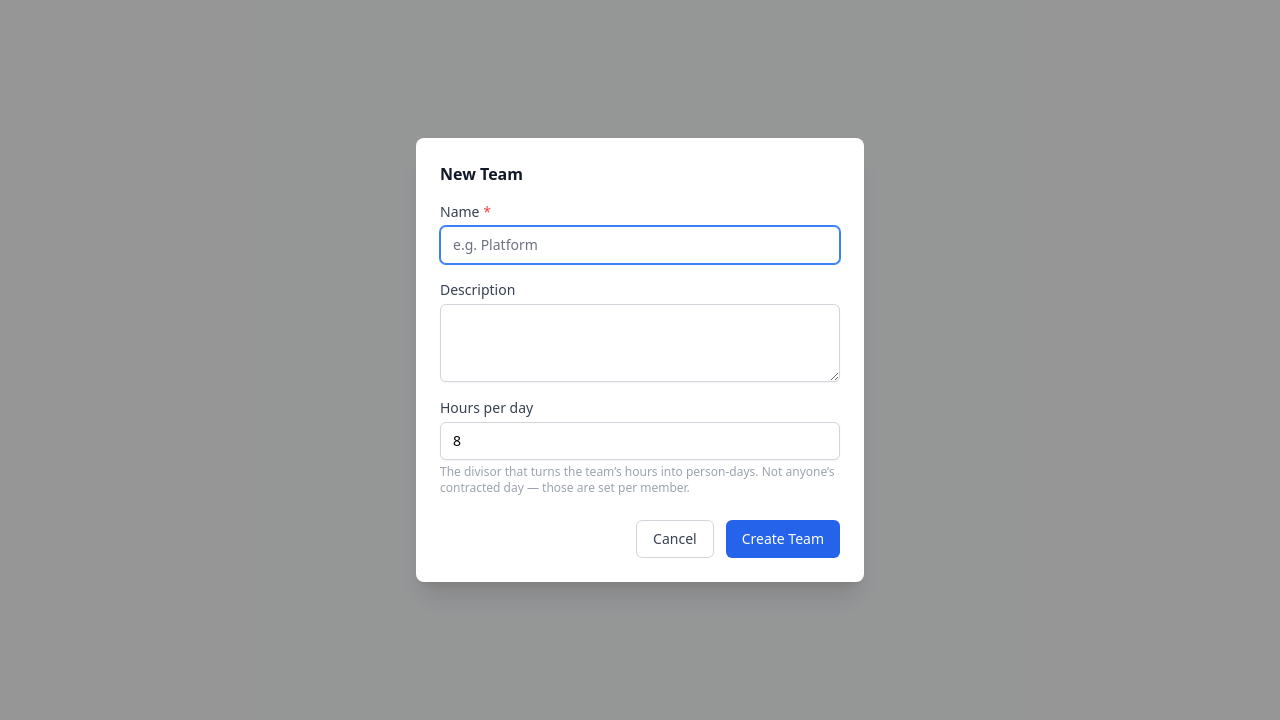
it: CreateTeamModal › requires a name
Click the button "Create Team" at (783, 539), box [726,520,840,558]
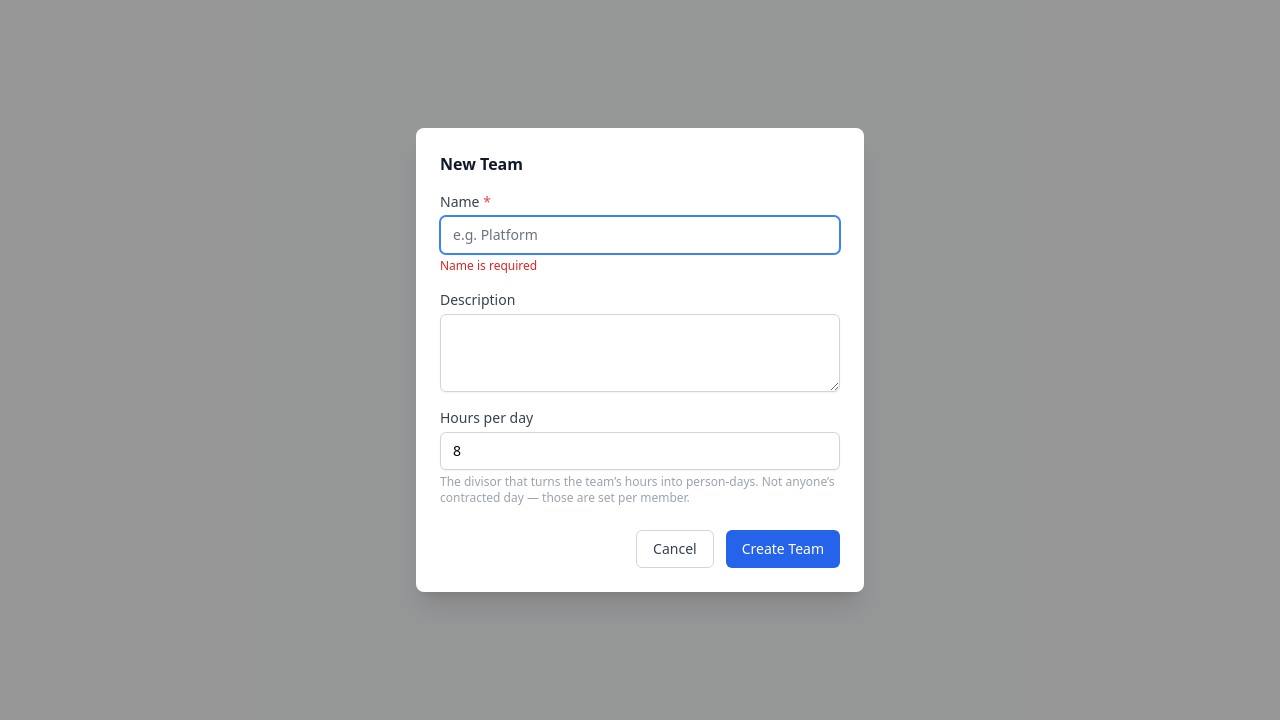
Result: the text "Name is required" is shown at [440,257,537,274]
